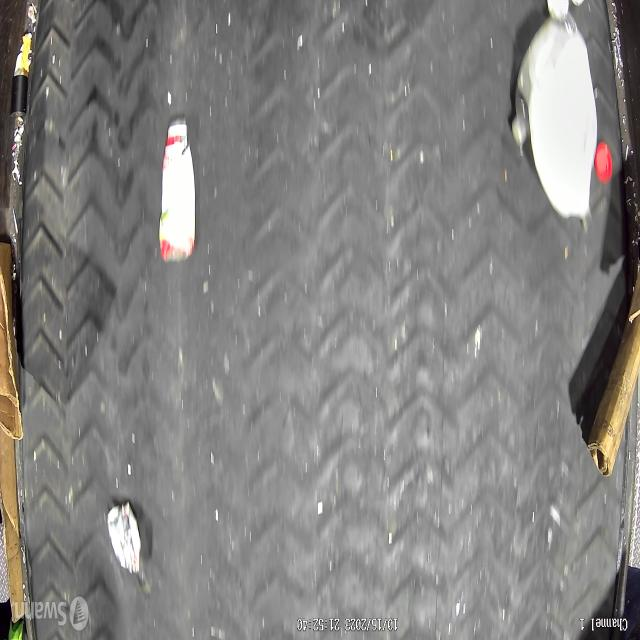milk_jug: (527, 25, 600, 224), (108, 500, 142, 575)
